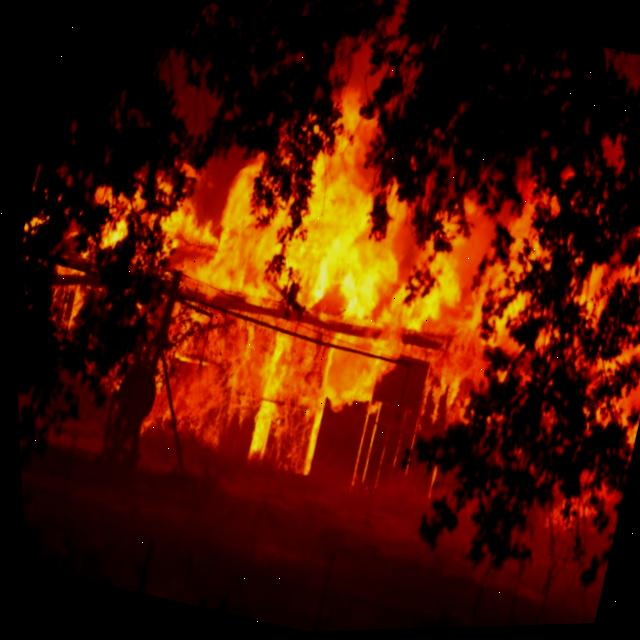fire: (125, 171, 492, 509), (313, 68, 394, 210)
